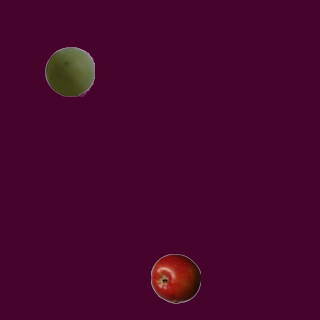Apple Braeburn: (150, 253, 200, 303)
Grape White 4: (44, 46, 94, 96)
